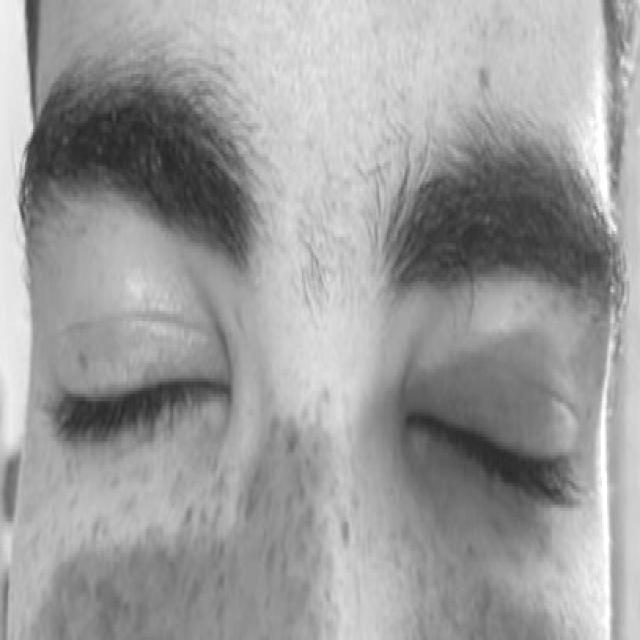real: (40, 146, 588, 542)
